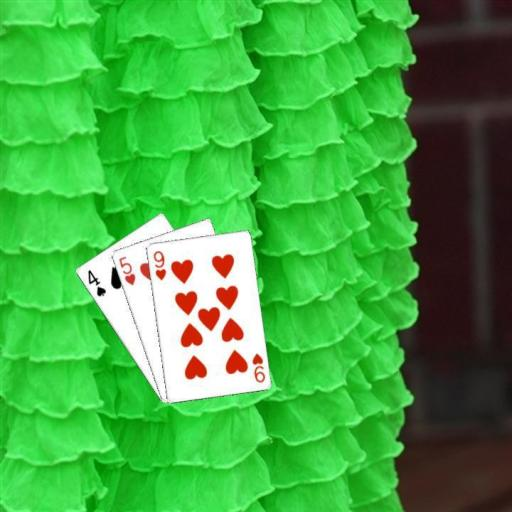card-corner: (115, 253, 137, 287), (84, 267, 107, 298), (150, 248, 167, 282), (249, 350, 266, 384)
